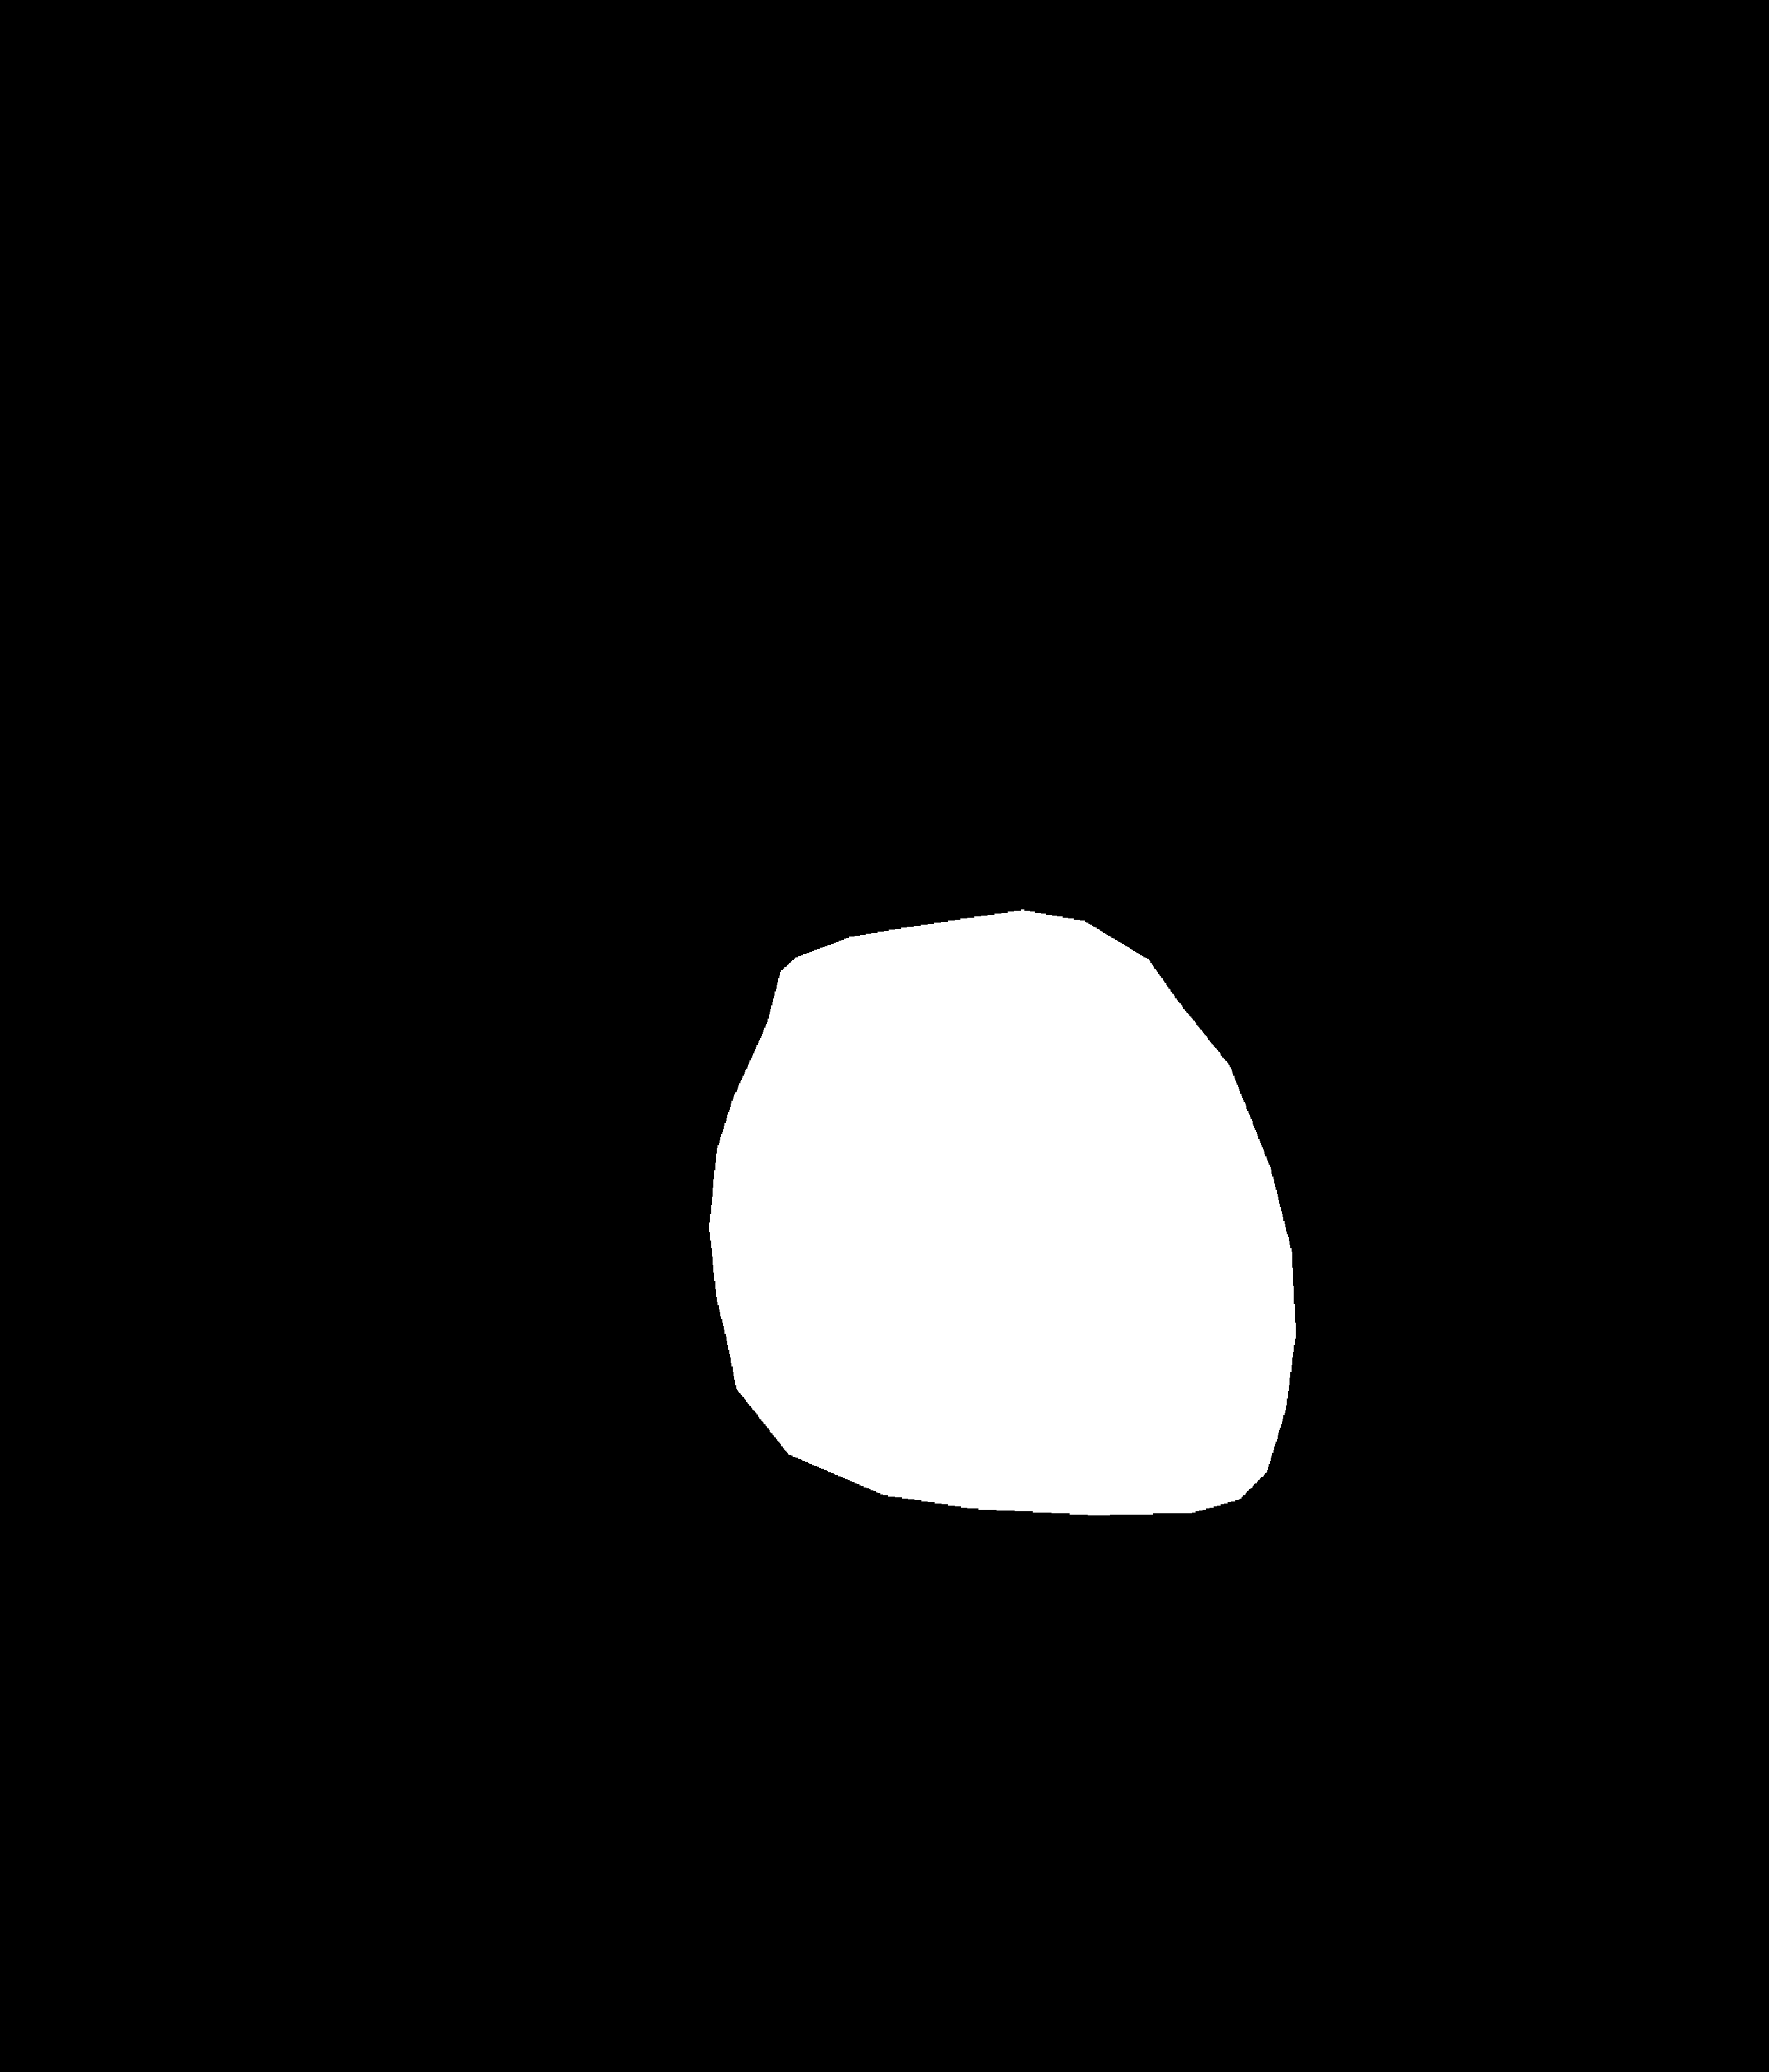heart: (709, 977, 1290, 1507)
left_lung: (204, 174, 856, 1742)
right_lung: (1007, 158, 1586, 1726)
